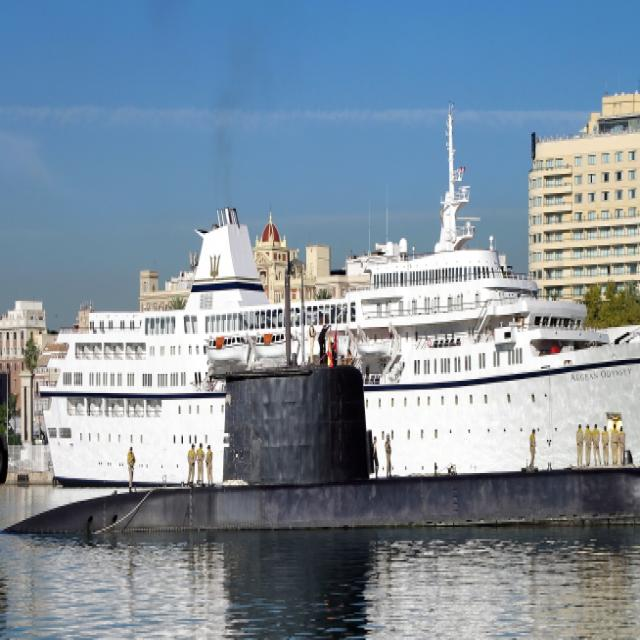submarine: (4, 365, 640, 530)
